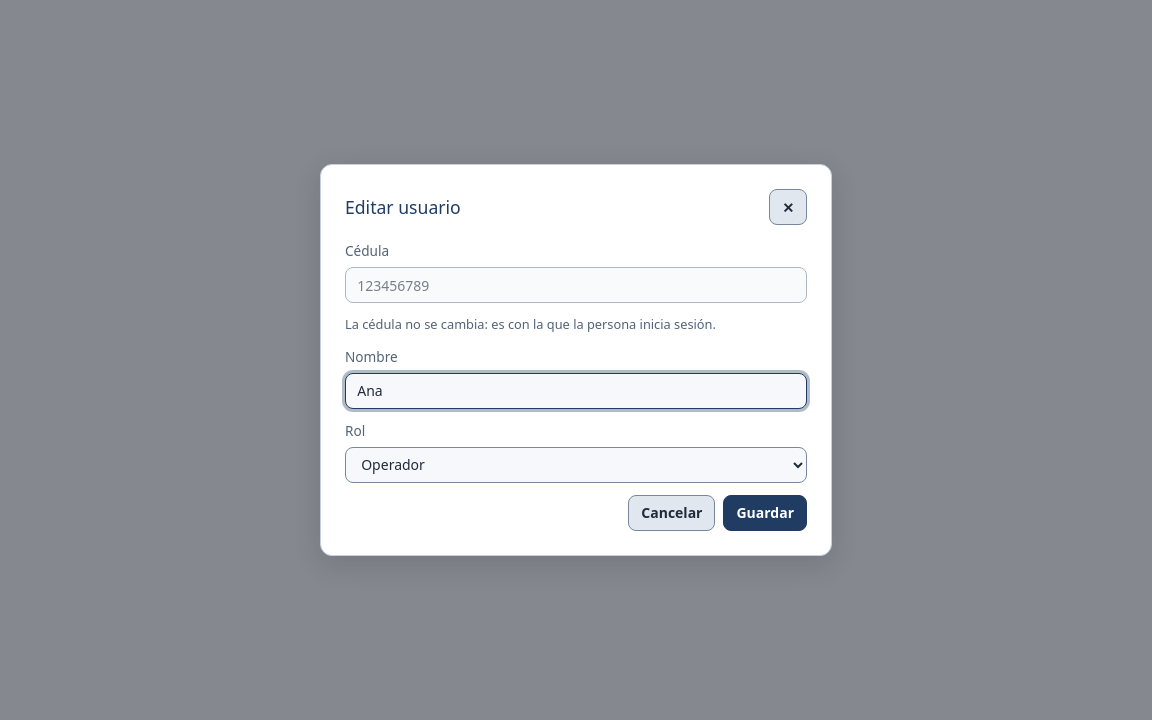
Test: FormularioEditarUsuario › muestra el error y no cierra si falla
What coordinates should you click on to do the following:
click the button "Guardar"
I would click on:
 (765, 513)
Its box is x1=724 y1=495 x2=807 y2=531.
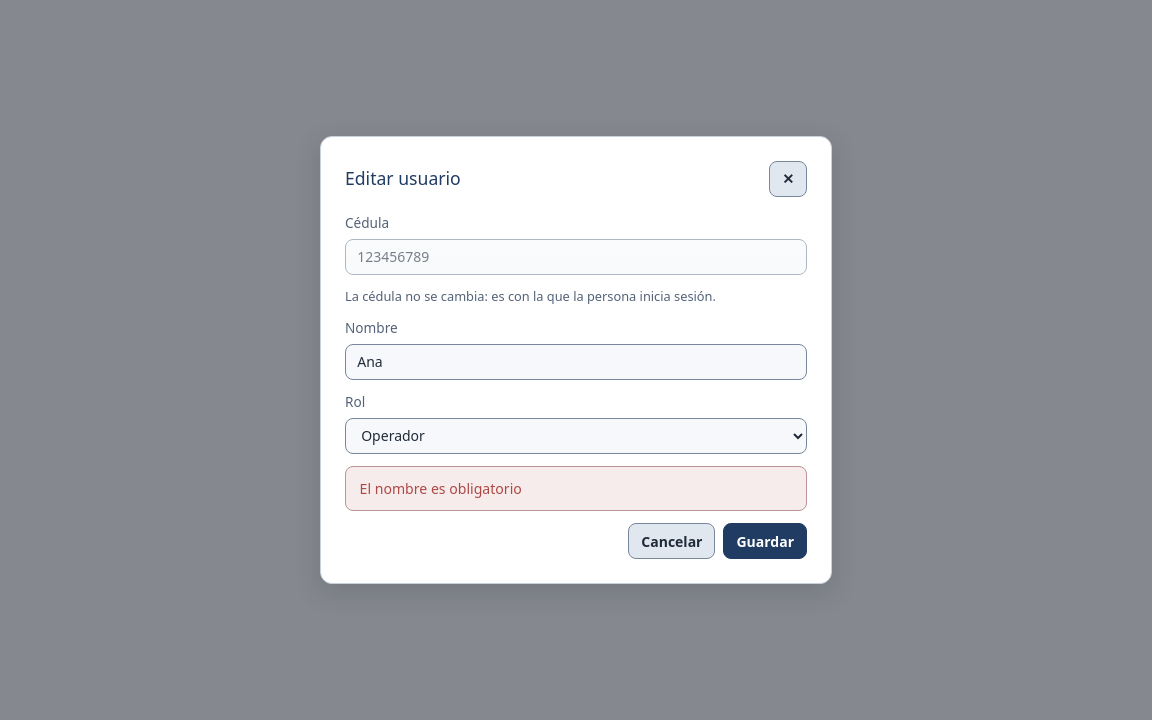
Check: the message reads "El nombre es obligatorio", box x1=360 y1=479 x2=522 y2=498
